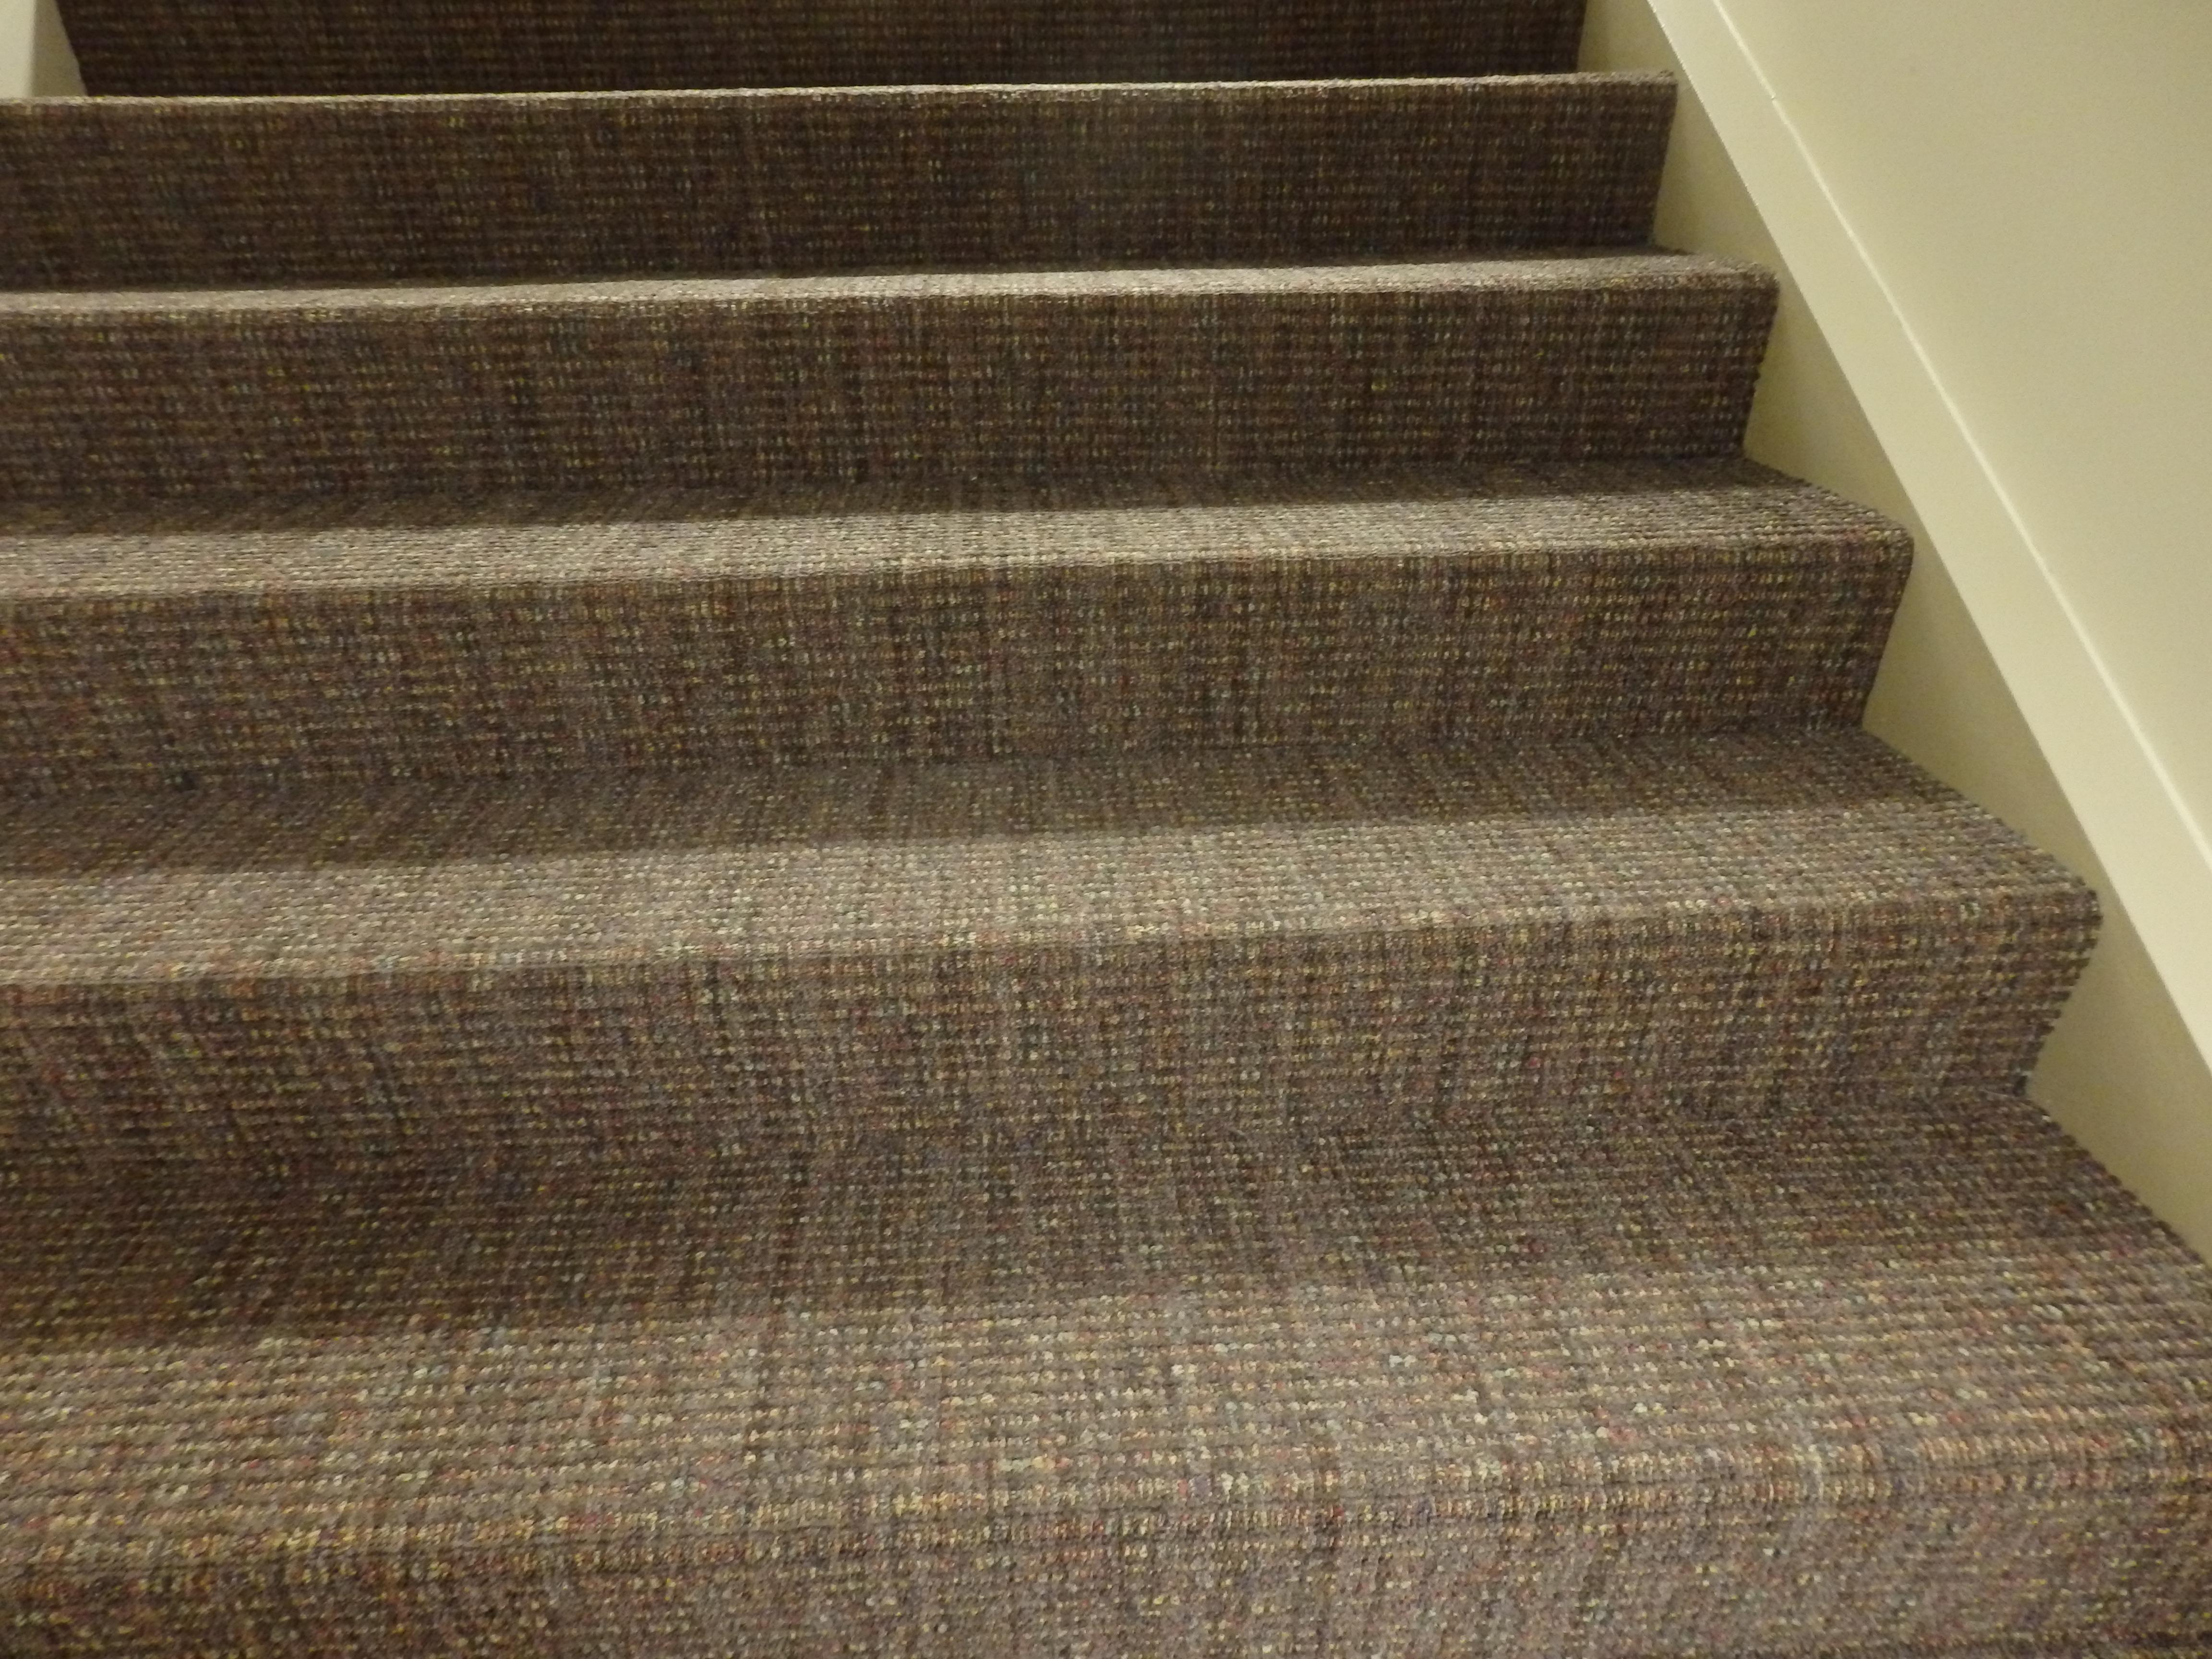stairs_up: (12, 16, 2179, 1631)
